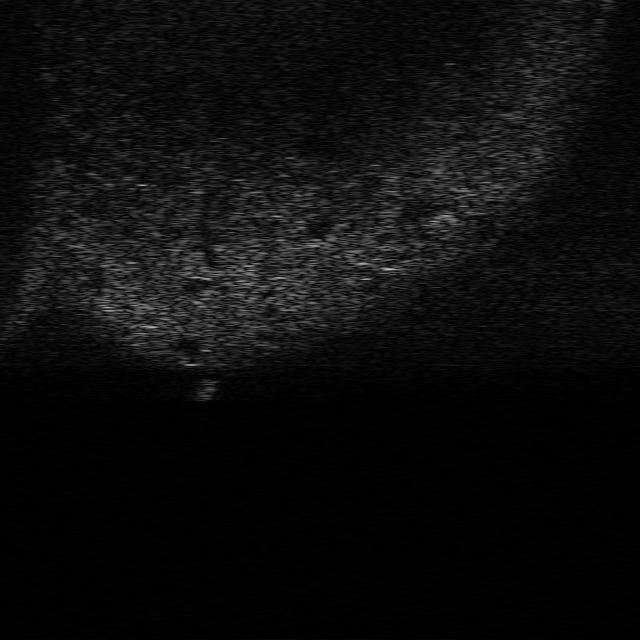cylinder: (192, 378, 218, 402)
